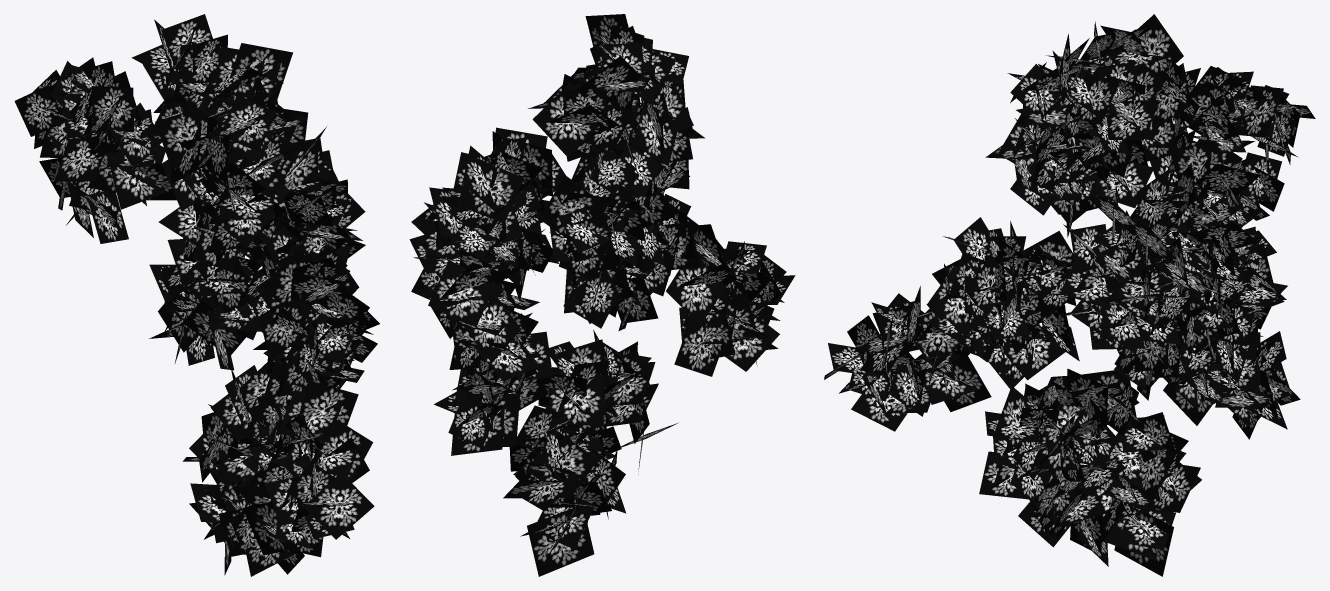
File: SM_RedLeaves.glb
3 views of the same model, side by side, from view 1: azimuth 30°, elevation 25°; view 2: azimuth 150°, elevation 25°; view 3: azimuth 270°, elevation 25° (orthographic). The views are drawn at different scales.
Parts seen in each view (by area): view 1: SM_RedLeaves_LOD0; view 2: SM_RedLeaves_LOD0; view 3: SM_RedLeaves_LOD0.
Boxes of the visible parts, left/top/right/bottom form: SM_RedLeaves_LOD0: left=14, top=14, right=379, bottom=576; SM_RedLeaves_LOD0: left=409, top=14, right=795, bottom=576; SM_RedLeaves_LOD0: left=824, top=14, right=1315, bottom=576.
Size of the model in its own units: 1.92 by 3.94 by 3.32.
1 material, 1 textured.
